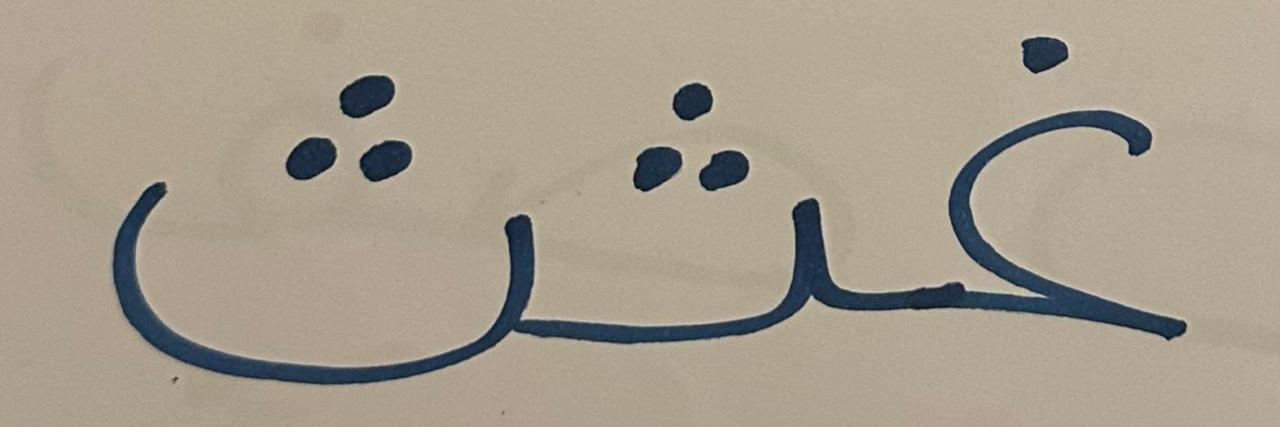ghain: (863, 3, 1232, 401)
waw: (76, 3, 551, 407), (554, 14, 854, 404)
